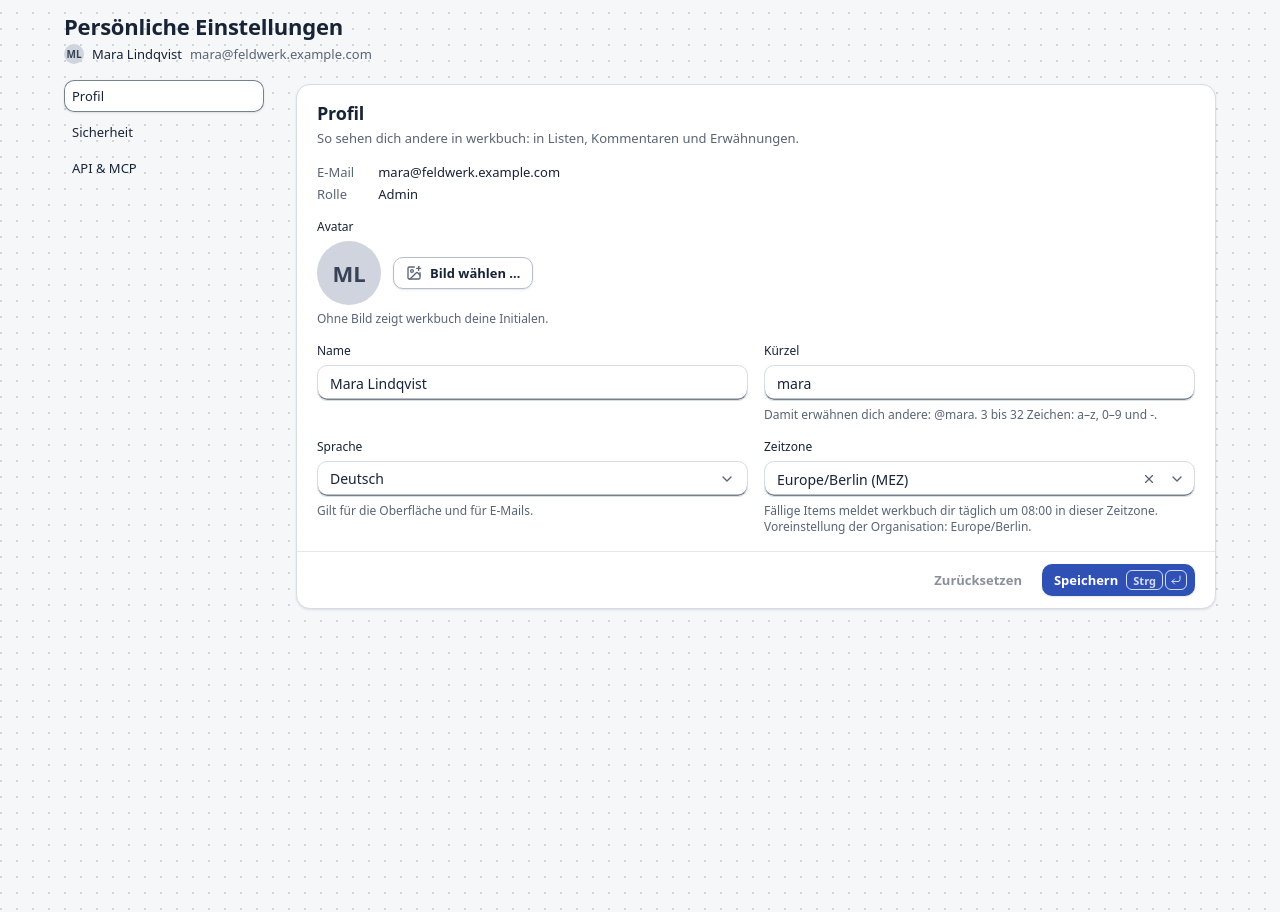
it: Profile › says there is nothing to save when nothing changed
Click the button "Speichern Strg" at point(1118, 580), box [1042,564,1195,596]
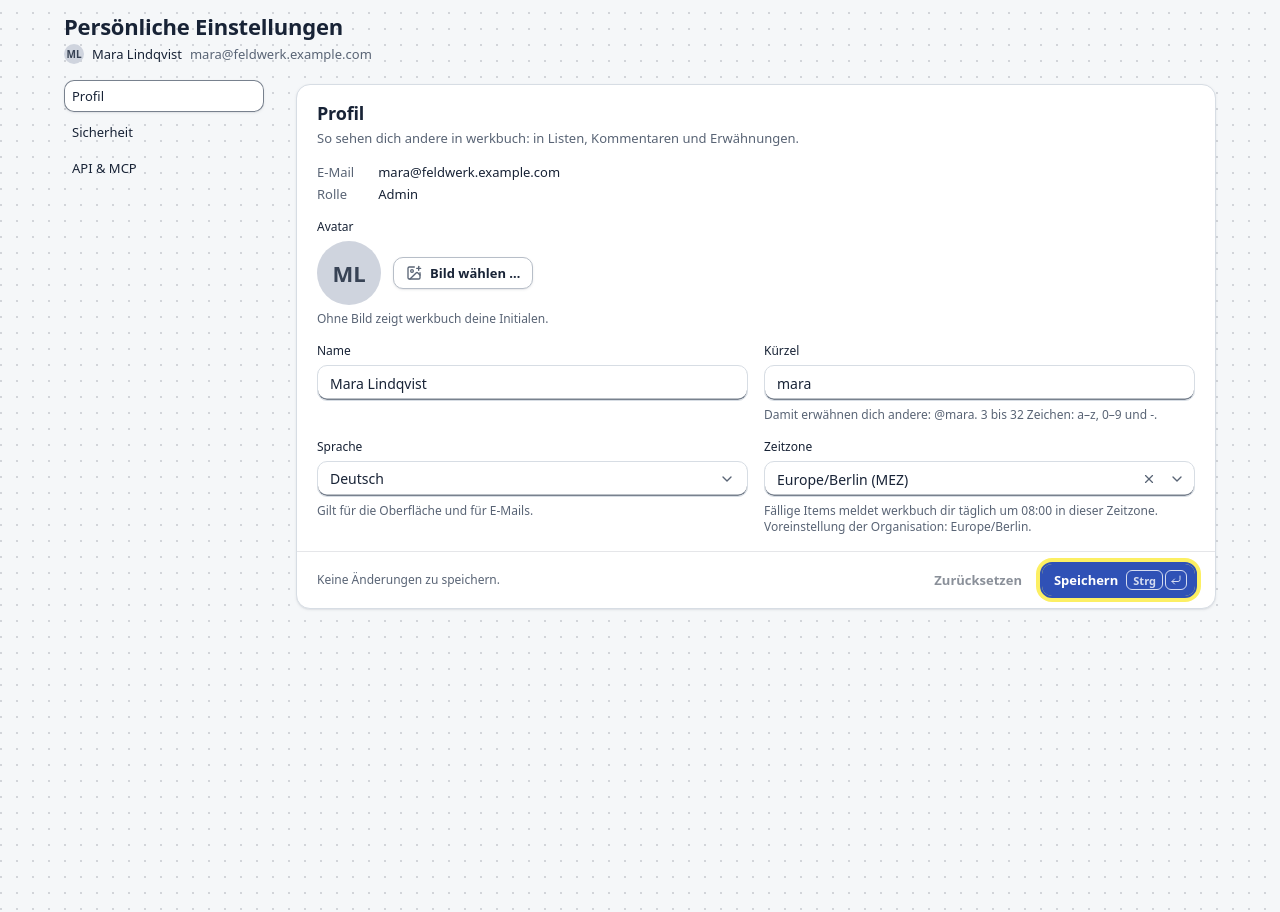
Result: the text "Keine Änderungen zu speichern." is shown at [317,572,500,588]
